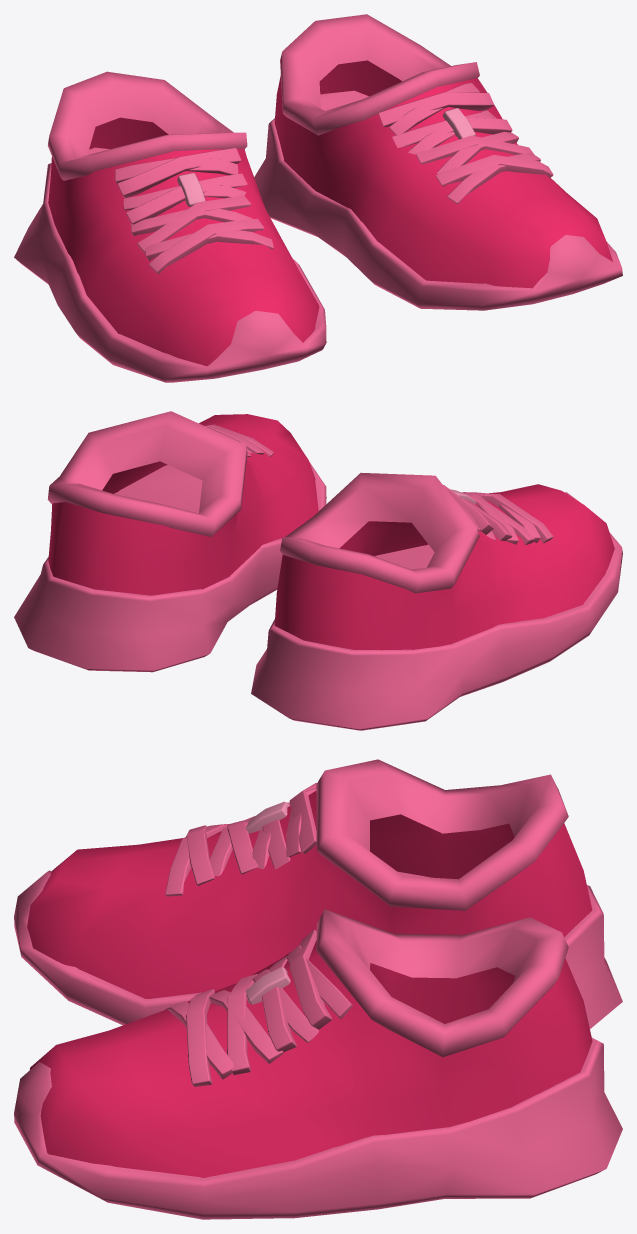
Rendered from Shoe_Sneaker_019.glb.
The picture shows the model from 3 angles, top to bottom: view 1: azimuth 30°, elevation 25°; view 2: azimuth 150°, elevation 25°; view 3: azimuth 270°, elevation 25°; orthographic projection. The views are drawn at different scales.
Visible parts, largest first — view 1: Shoe_Sneaker_019; view 2: Shoe_Sneaker_019; view 3: Shoe_Sneaker_019.
Boxes of the visible parts, x1=… form: Shoe_Sneaker_019: x1=14, y1=14, x2=622, y2=382; Shoe_Sneaker_019: x1=14, y1=411, x2=622, y2=730; Shoe_Sneaker_019: x1=14, y1=759, x2=622, y2=1219.
Bounding box in the file's own units: 0.4447 × 0.1526 × 0.3773.
Materials: 1 (1 with a texture image).
